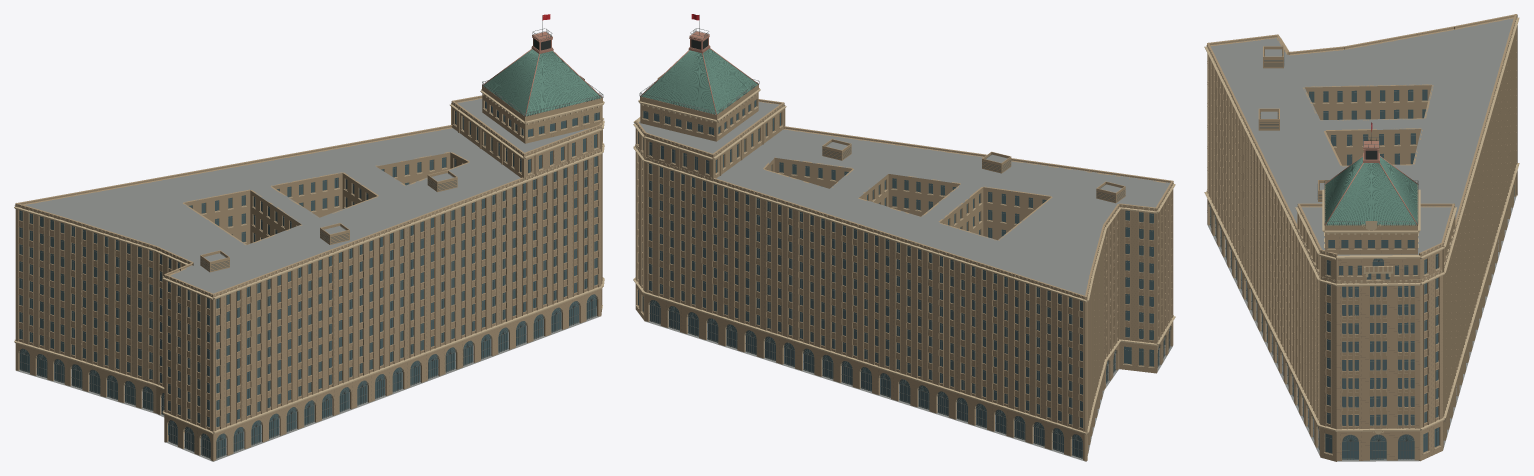
The model's file is bund20.glb.
3 views of the same model, side by side, from view 1: azimuth 30°, elevation 25°; view 2: azimuth 150°, elevation 25°; view 3: azimuth 270°, elevation 25° (orthographic). The views are drawn at different scales.
Visible parts, largest first — view 1: 02 Hotel masonry, genuine window reveals and Art-Deco vertic, 03 Three open courtyards, rear windows, floor and roof slabs, 01 Ground arches, sandstone piers and bronze doors, 04 Stepped eastern pavilion and projecting central balcony, 06 Patinated copper pyramid, raised seams, lantern and flagp, 05 Penthouse, sculpted frieze and terrace balustrades, 07 Screened rear roof plant; view 2: 02 Hotel masonry, genuine window reveals and Art-Deco vertic, 03 Three open courtyards, rear windows, floor and roof slabs, 01 Ground arches, sandstone piers and bronze doors, 04 Stepped eastern pavilion and projecting central balcony, 06 Patinated copper pyramid, raised seams, lantern and flagp, 05 Penthouse, sculpted frieze and terrace balustrades, 07 Screened rear roof plant; view 3: 02 Hotel masonry, genuine window reveals and Art-Deco vertic, 03 Three open courtyards, rear windows, floor and roof slabs, 01 Ground arches, sandstone piers and bronze doors, 04 Stepped eastern pavilion and projecting central balcony, 06 Patinated copper pyramid, raised seams, lantern and flagp, 05 Penthouse, sculpted frieze and terrace balustrades, 07 Screened rear roof plant.
Part boxes in pixels (bbox=[...]): 02 Hotel masonry, genuine window reveals and Art-Deco vertic: bbox=[14, 125, 604, 431]; 03 Three open courtyards, rear windows, floor and roof slabs: bbox=[16, 128, 600, 461]; 01 Ground arches, sandstone piers and bronze doors: bbox=[14, 277, 604, 461]; 04 Stepped eastern pavilion and projecting central balcony: bbox=[450, 95, 604, 180]; 06 Patinated copper pyramid, raised seams, lantern and flagp: bbox=[482, 14, 602, 116]; 05 Penthouse, sculpted frieze and terrace balustrades: bbox=[480, 76, 604, 143]; 07 Screened rear roof plant: bbox=[200, 170, 457, 272]; 02 Hotel masonry, genuine window reveals and Art-Deco vertic: bbox=[633, 126, 1175, 432]; 03 Three open courtyards, rear windows, floor and roof slabs: bbox=[645, 129, 1172, 461]; 01 Ground arches, sandstone piers and bronze doors: bbox=[633, 277, 1175, 461]; 04 Stepped eastern pavilion and projecting central balcony: bbox=[633, 99, 786, 181]; 06 Patinated copper pyramid, raised seams, lantern and flagp: bbox=[640, 14, 758, 115]; 05 Penthouse, sculpted frieze and terrace balustrades: bbox=[638, 74, 760, 141]; 07 Screened rear roof plant: bbox=[822, 139, 1125, 203]; 02 Hotel masonry, genuine window reveals and Art-Deco vertic: bbox=[1204, 14, 1519, 429]; 03 Three open courtyards, rear windows, floor and roof slabs: bbox=[1207, 18, 1516, 461]; 01 Ground arches, sandstone piers and bronze doors: bbox=[1204, 163, 1519, 461]; 04 Stepped eastern pavilion and projecting central balcony: bbox=[1295, 203, 1457, 434]; 06 Patinated copper pyramid, raised seams, lantern and flagp: bbox=[1324, 122, 1418, 225]; 05 Penthouse, sculpted frieze and terrace balustrades: bbox=[1322, 180, 1420, 254]; 07 Screened rear roof plant: bbox=[1258, 46, 1329, 201].
Bounding box in the file's own units: 151 × 83 × 74.68.
